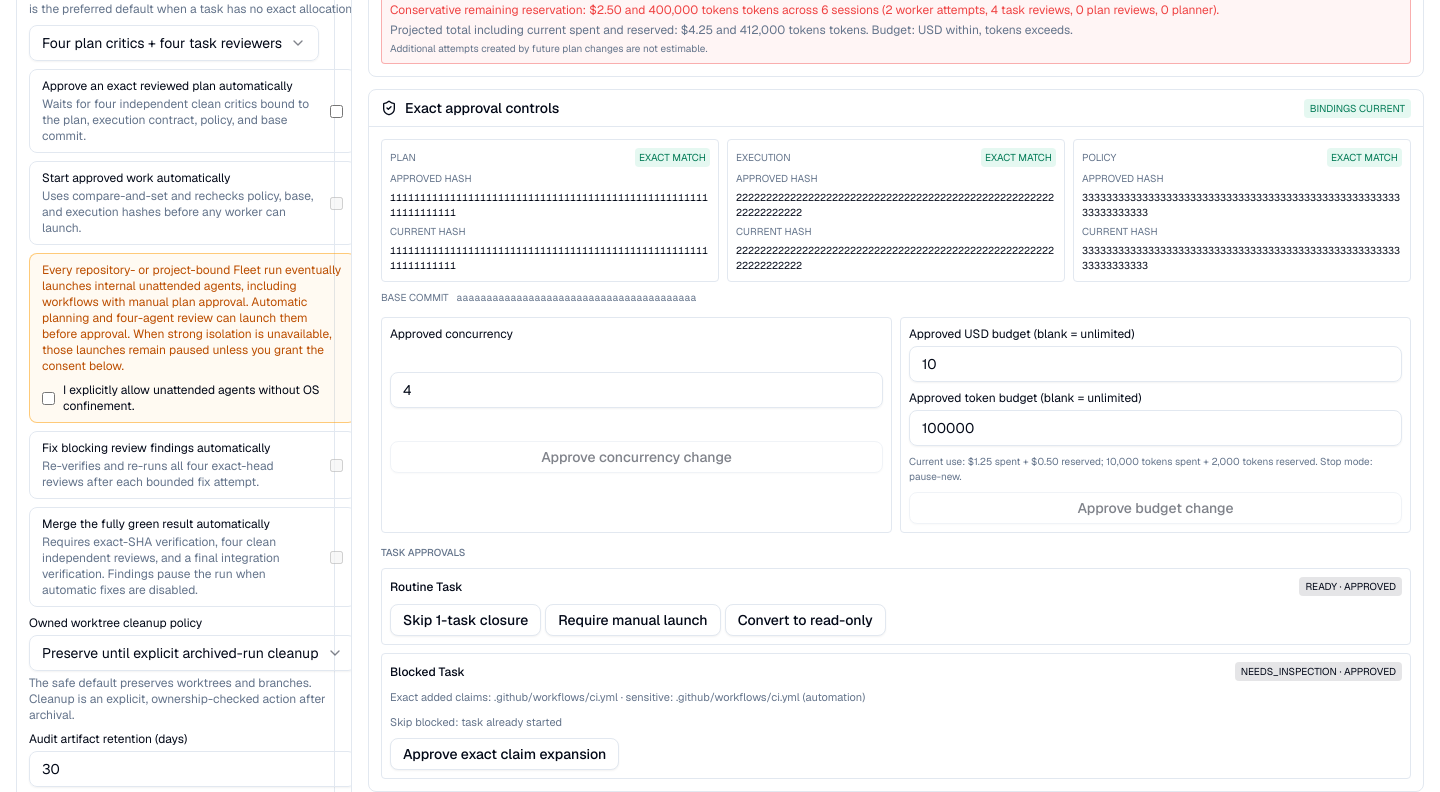
Test: FleetManagementView status drilldowns › keeps pause, cancel, and exact controls open during internal integration staging
(page scrolled)
Replace the text in the number field named "Approved Fleet concurrency" with "5" at [636, 390], box x1=390 y1=372 x2=883 y2=408
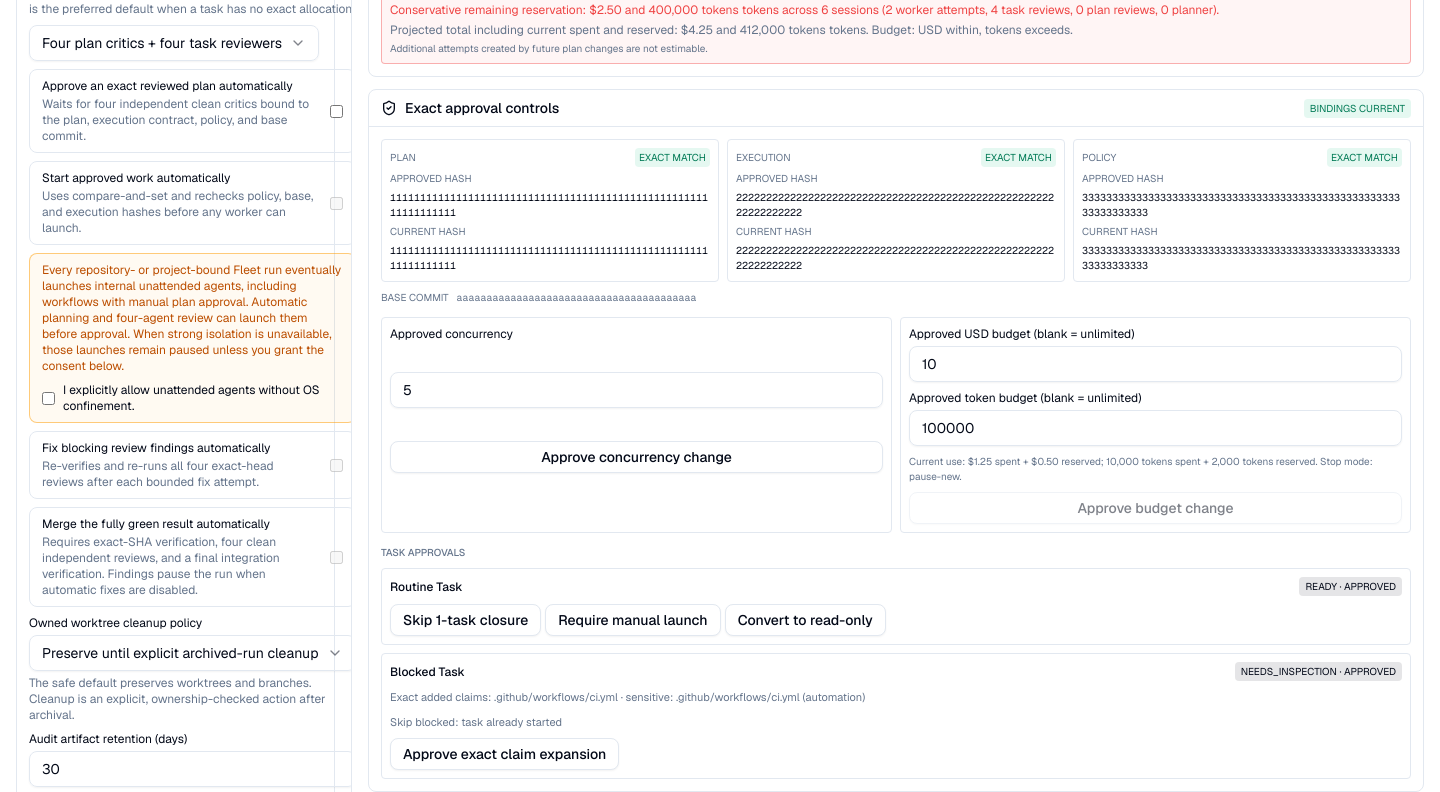
Expected: the button "Approve concurrency change" is enabled, x1=390 y1=441 x2=883 y2=473
